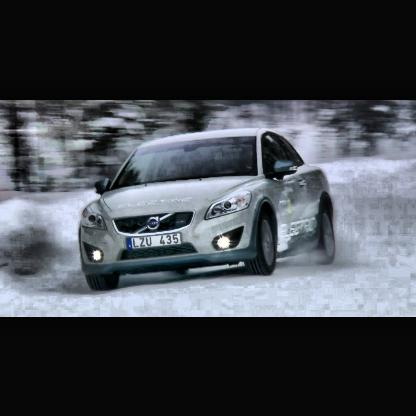Volvo C30 Hatchback 2012: (80, 127, 337, 294)
